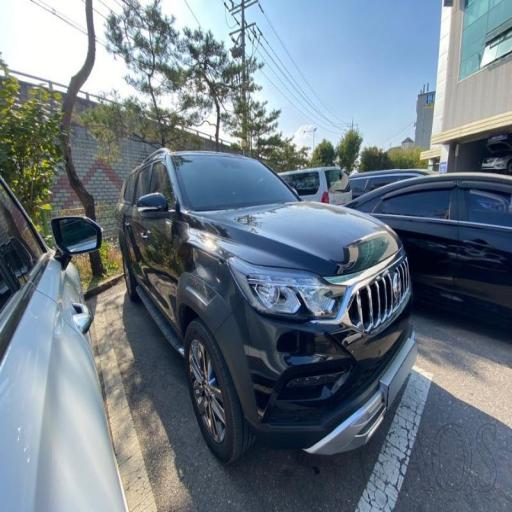dent: (242, 296, 364, 433)
